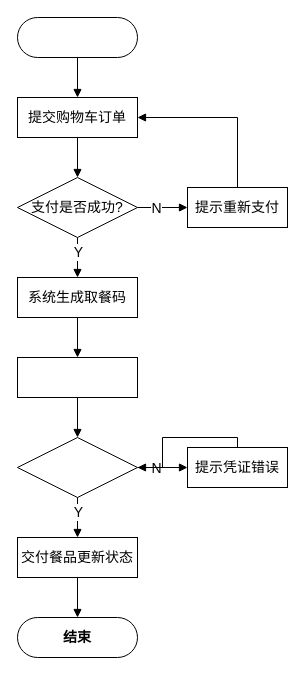
This 305x675 diagram has some shape labels left out. The shapes that lost their labels are listed below. From the top down, each one's centre as x and y in pixels, then its label:
point 77,37: 开始
point 77,377: 商家接单并备餐
point 77,467: 窗口核实取餐码?
